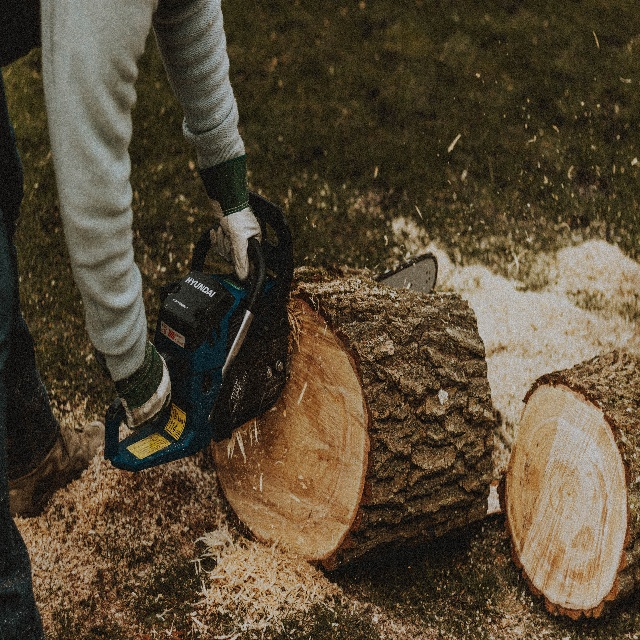Guantes: (209, 203, 262, 286), (116, 349, 171, 427)
